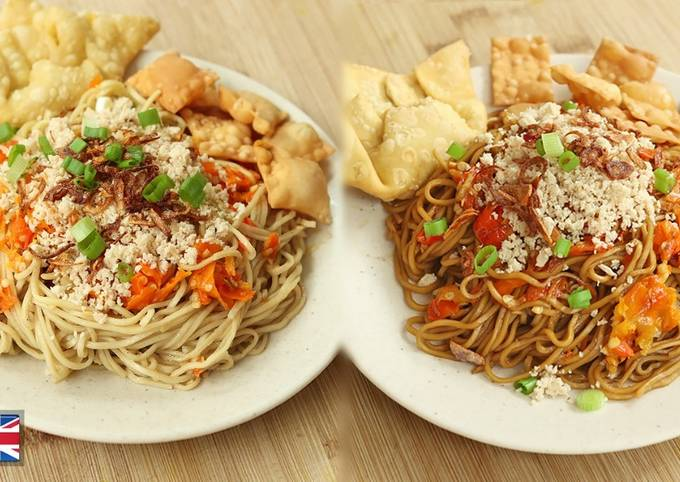Mie: (355, 89, 667, 393), (1, 92, 306, 390)
